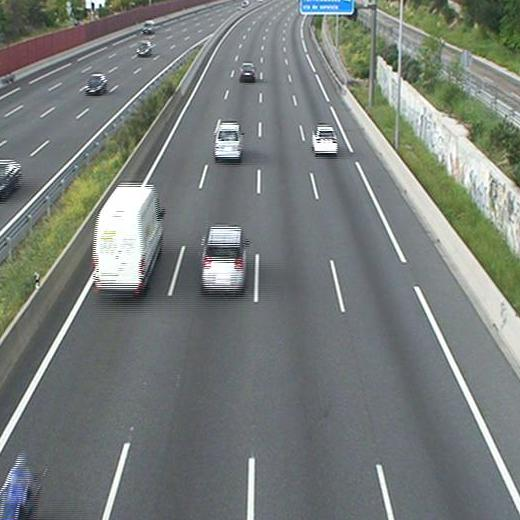car: (201, 227, 245, 291), (214, 124, 242, 158), (311, 128, 338, 153), (240, 63, 256, 79)
motorcycle: (1, 449, 40, 519)
van: (94, 185, 162, 292)
